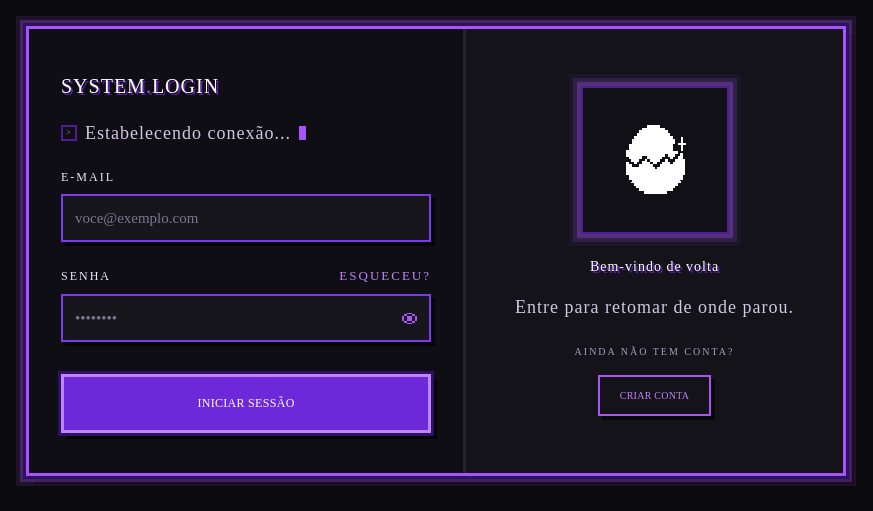
it: PainelLogin › troca o formulário pelo aviso quando o e-mail está pendente
Type "pendente@exemplo.com" into the field labelled "E-MAIL". click: (246, 218)
box: [75, 196, 417, 240]
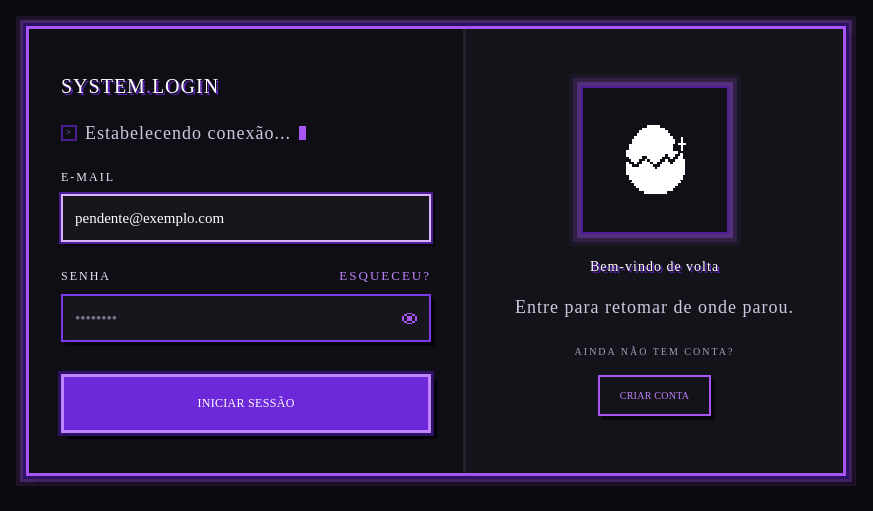
Type "trilha-de-python-8" into the password field labelled "SENHA". click: (234, 318)
box: [75, 296, 394, 340]
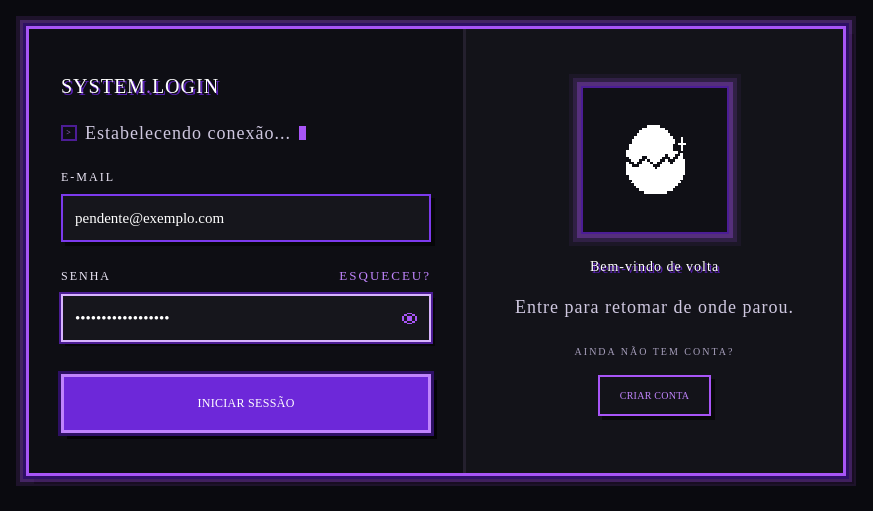
Click the button "INICIAR SESSÃO". click: (246, 404)
box: [61, 374, 431, 433]
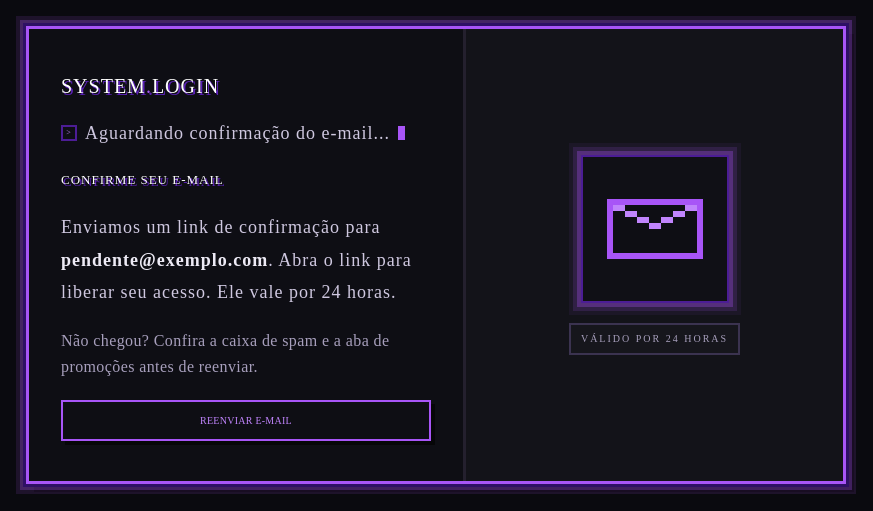
Result: the heading "CONFIRME SEU E-MAIL" is shown at [61, 172, 224, 187]
Result: the text "pendente@exemplo.com" is shown at [61, 250, 268, 270]
Result: the label labelled "SENHA" is gone
